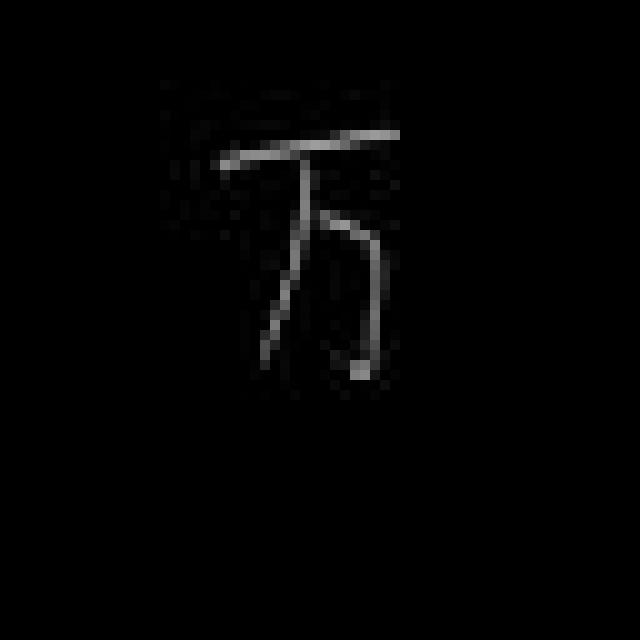10000 -a ten thousand-: (204, 112, 423, 404)
